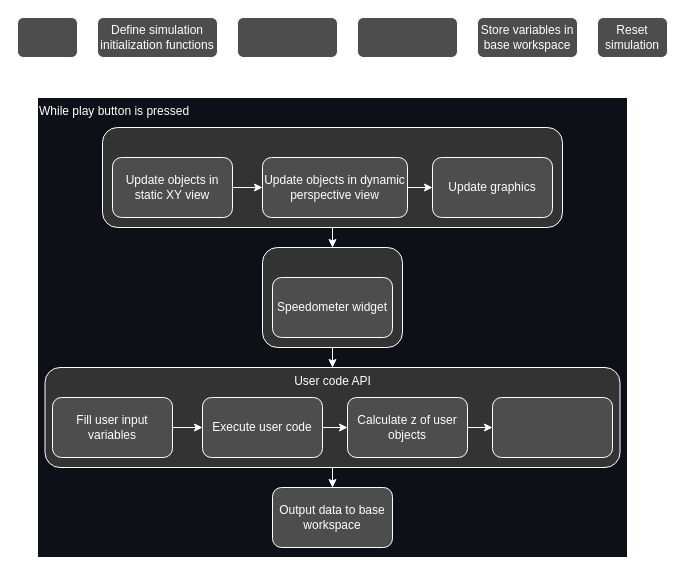
Some shapes in this 685 by 575 pixel diagram are drawn without their labels. Each missing label, with the box of its shape:
Define simulation update functions: (236, 16, 338, 58)
Define user code API functions: (356, 16, 458, 58)
Initialize interface: (16, 16, 78, 58)
Run Simulation: (102, 126, 562, 228)
Update user object graphics: (492, 396, 612, 458)
Update widgets: (262, 246, 402, 348)
